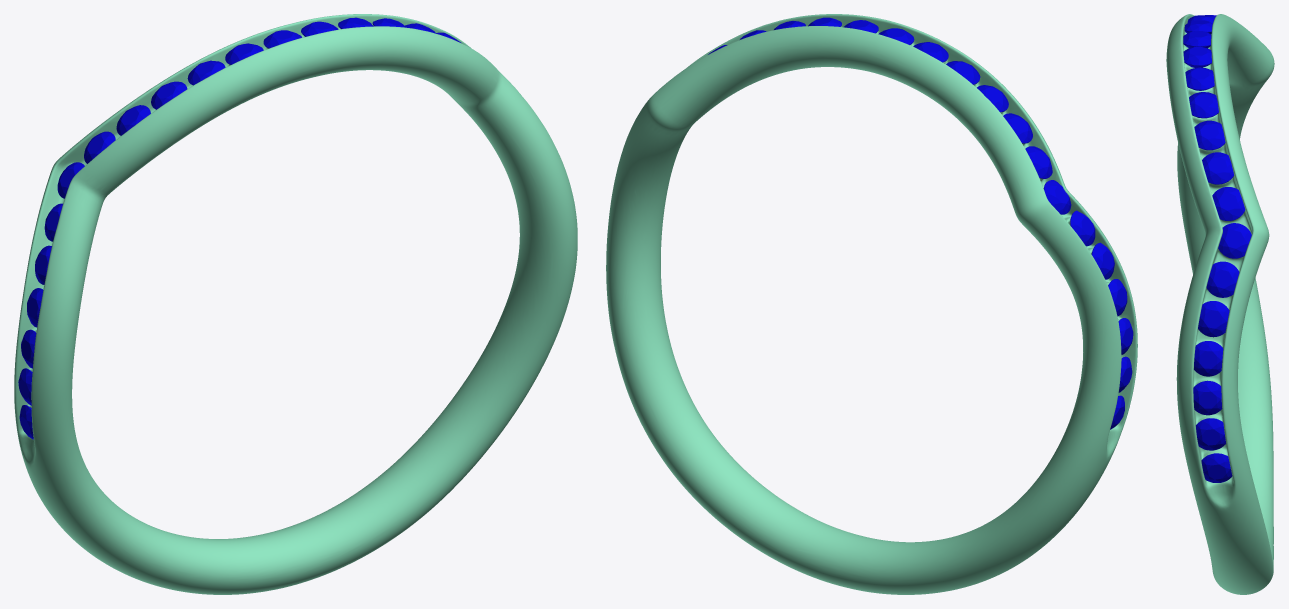
The picture shows the model from 3 angles, left to right: view 1: azimuth 30°, elevation 25°; view 2: azimuth 150°, elevation 25°; view 3: azimuth 270°, elevation 25°; orthographic projection. The views are drawn at different scales.
Parts seen in each view (by area): view 1: Metal03; view 2: Metal03; view 3: Metal03, Diamond_Band.018, Diamond_Band.017, Diamond_Band.019, Diamond_Band.016, Diamond_Band.015, Diamond_Band.020, Diamond_Band.014, Diamond_Band.021, Diamond_Band.013, Diamond_Band.022, Diamond_Band.023 (+4 smaller).
Boxes of the visible parts, bbox=[...] form: Metal03: bbox=[14, 14, 577, 594]; Metal03: bbox=[606, 14, 1137, 594]; Metal03: bbox=[1166, 14, 1274, 594]; Diamond_Band.018: bbox=[1206, 261, 1239, 297]; Diamond_Band.017: bbox=[1198, 301, 1229, 337]; Diamond_Band.019: bbox=[1218, 223, 1251, 258]; Diamond_Band.016: bbox=[1194, 341, 1223, 376]; Diamond_Band.015: bbox=[1193, 380, 1222, 415]; Diamond_Band.020: bbox=[1212, 187, 1245, 220]; Diamond_Band.014: bbox=[1196, 418, 1225, 450]; Diamond_Band.021: bbox=[1202, 152, 1233, 184]; Diamond_Band.013: bbox=[1201, 453, 1232, 482]; Diamond_Band.022: bbox=[1194, 120, 1225, 150]; Diamond_Band.023: bbox=[1189, 92, 1218, 118].
Bounding box in the file's own units: 20.63 × 20.75 × 3.86.
